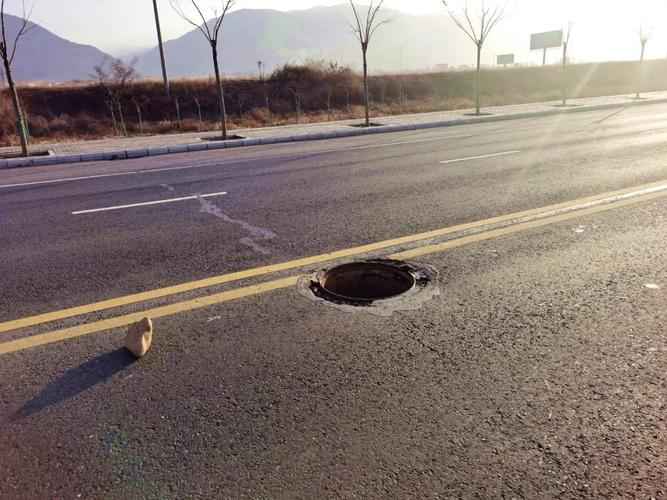lose: (293, 252, 459, 318)
